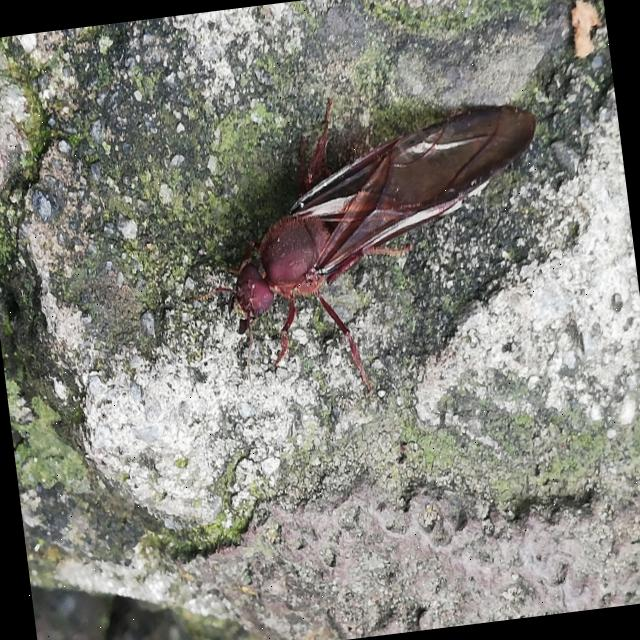Alive-Female-Alate: (166, 70, 568, 418)
